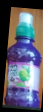blueberries: (6, 11, 42, 108)
